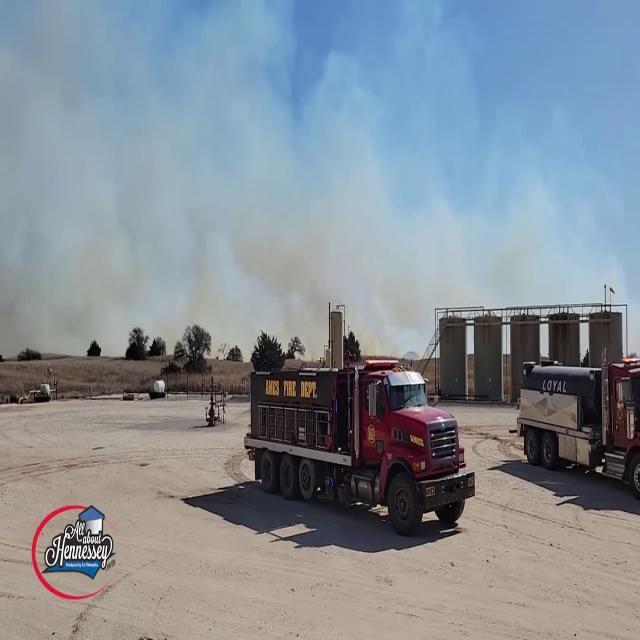Smoke: (1, 68, 587, 346)
